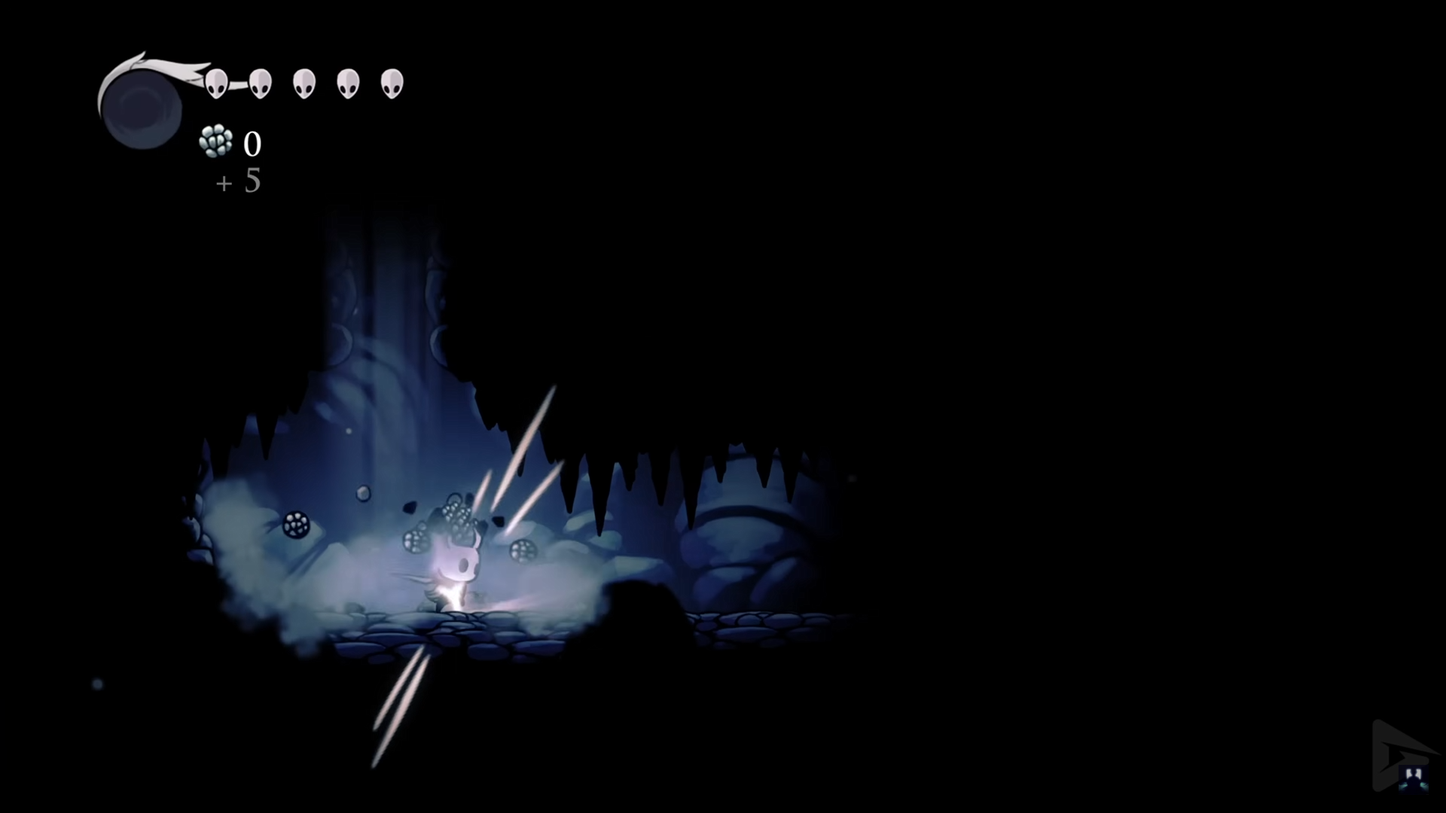HK: (421, 525, 487, 620)
